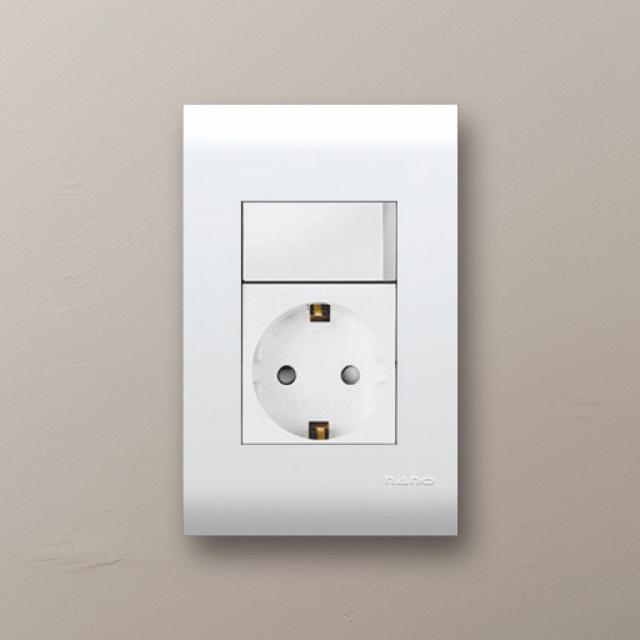typeb: (167, 78, 527, 640)
